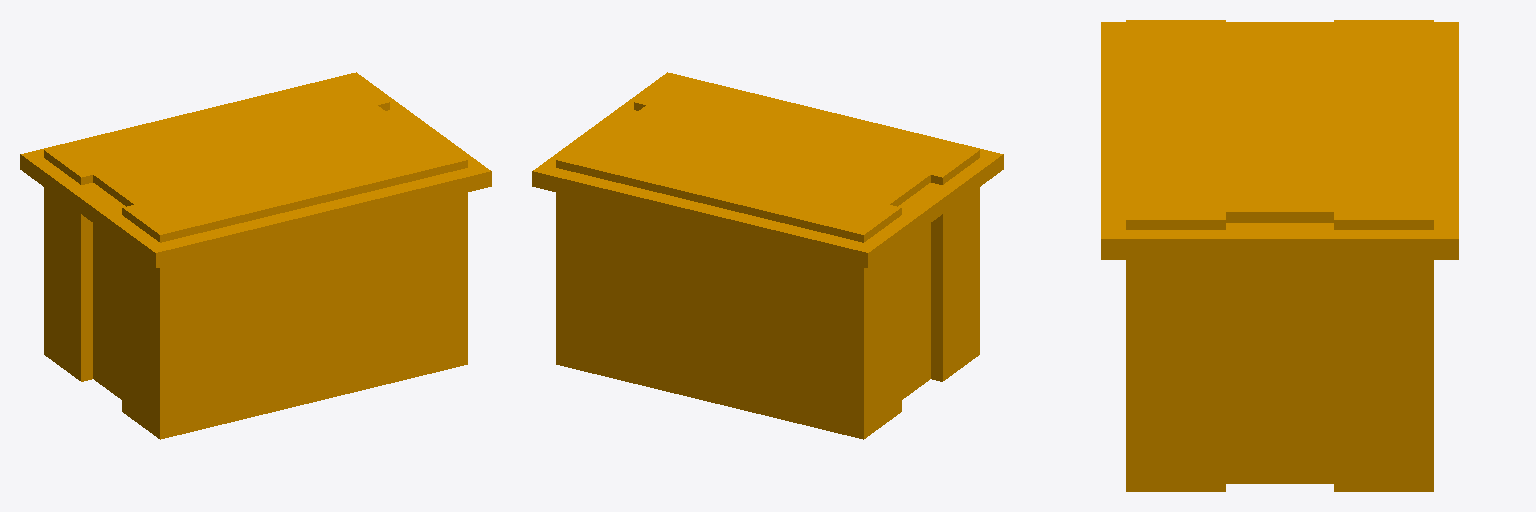
URDF robot description (plastic_box_sterilite_51l):
<?xml version="1.0"?>
<!--
This is a large plastic box with a lid, Sterilite 51 liters.
-->
<robot name="plastic_box_sterilite_51l">
  <link name="box">
    <!-- This is a model of a transparent plastic box with a lid:
    Sterilite 51 liters -->
    <inertial>
      <mass value="1.8"/>
      <inertia ixx="0.03974" ixy="0" ixz="0" iyy="0.06456" iyz="0" izz="0.07163"/>
    </inertial>
    <visual name="box_visual_lid">
      <origin xyz="0 0 0.14" rpy="0 0 0"/>
      <geometry>
        <box size="0.567 0.395 0.025"/>
      </geometry>
    </visual>
    <collision name="collision_lid">
      <origin xyz="0 0 0.14" rpy="0 0 0"/>
      <geometry>
        <box size="0.567 0.395 0.025"/>
      </geometry>
    </collision>

    <visual name="box_visual_middle_left">
      <origin xyz="0 0.115 0" rpy="0 0 0"/>
      <geometry>
        <box size="0.52 0.11 0.33"/>
      </geometry>
    </visual>
    <visual name="box_visual_middle_center">
      <geometry>
        <box size="0.48 0.12 0.33"/>
      </geometry>
    </visual>
    <visual name="box_visual_middle_right">
      <origin xyz="0 -0.115 0" rpy="0 0 0"/>
      <geometry>
        <box size="0.52 0.11 0.33"/>
      </geometry>
    </visual>

    <collision name="collision_middle_left">
      <origin xyz="0 0.115 0" rpy="0 0 0"/>
      <geometry>
        <box size="0.52 0.11 0.33"/>
      </geometry>
    </collision>
    <collision name="collision_middle_center">
      <geometry>
        <box size="0.48 0.12 0.33"/>
      </geometry>
    </collision>
    <collision name="collision_middle_right">
      <origin xyz="0 -0.115 0" rpy="0 0 0"/>
      <geometry>
        <box size="0.52 0.11 0.33"/>
      </geometry>
    </collision>
  </link>
</robot>

--- What the picture shows (computed from the rendered views, not written in the file) ---
Views: 3 orthographic renders of the robot side by side, from view 1: azimuth 30°, elevation 25°; view 2: azimuth 150°, elevation 25°; view 3: azimuth 270°, elevation 25°.
Robot: plastic_box_sterilite_51l — 1 links, 0 joints (none); root link box; default pose: every joint at zero.
Visible links, largest first — view 1: box; view 2: box; view 3: box.
Boxes of the visible links, x1,y1,x2,y2 form: box: [20, 72, 491, 439]; box: [532, 72, 1003, 439]; box: [1101, 20, 1458, 491].
Bounding box of the posed robot: 0.567 × 0.395 × 0.33 m (x, y, z).
Geometry: primitives only (box / cylinder / sphere), no mesh files.
